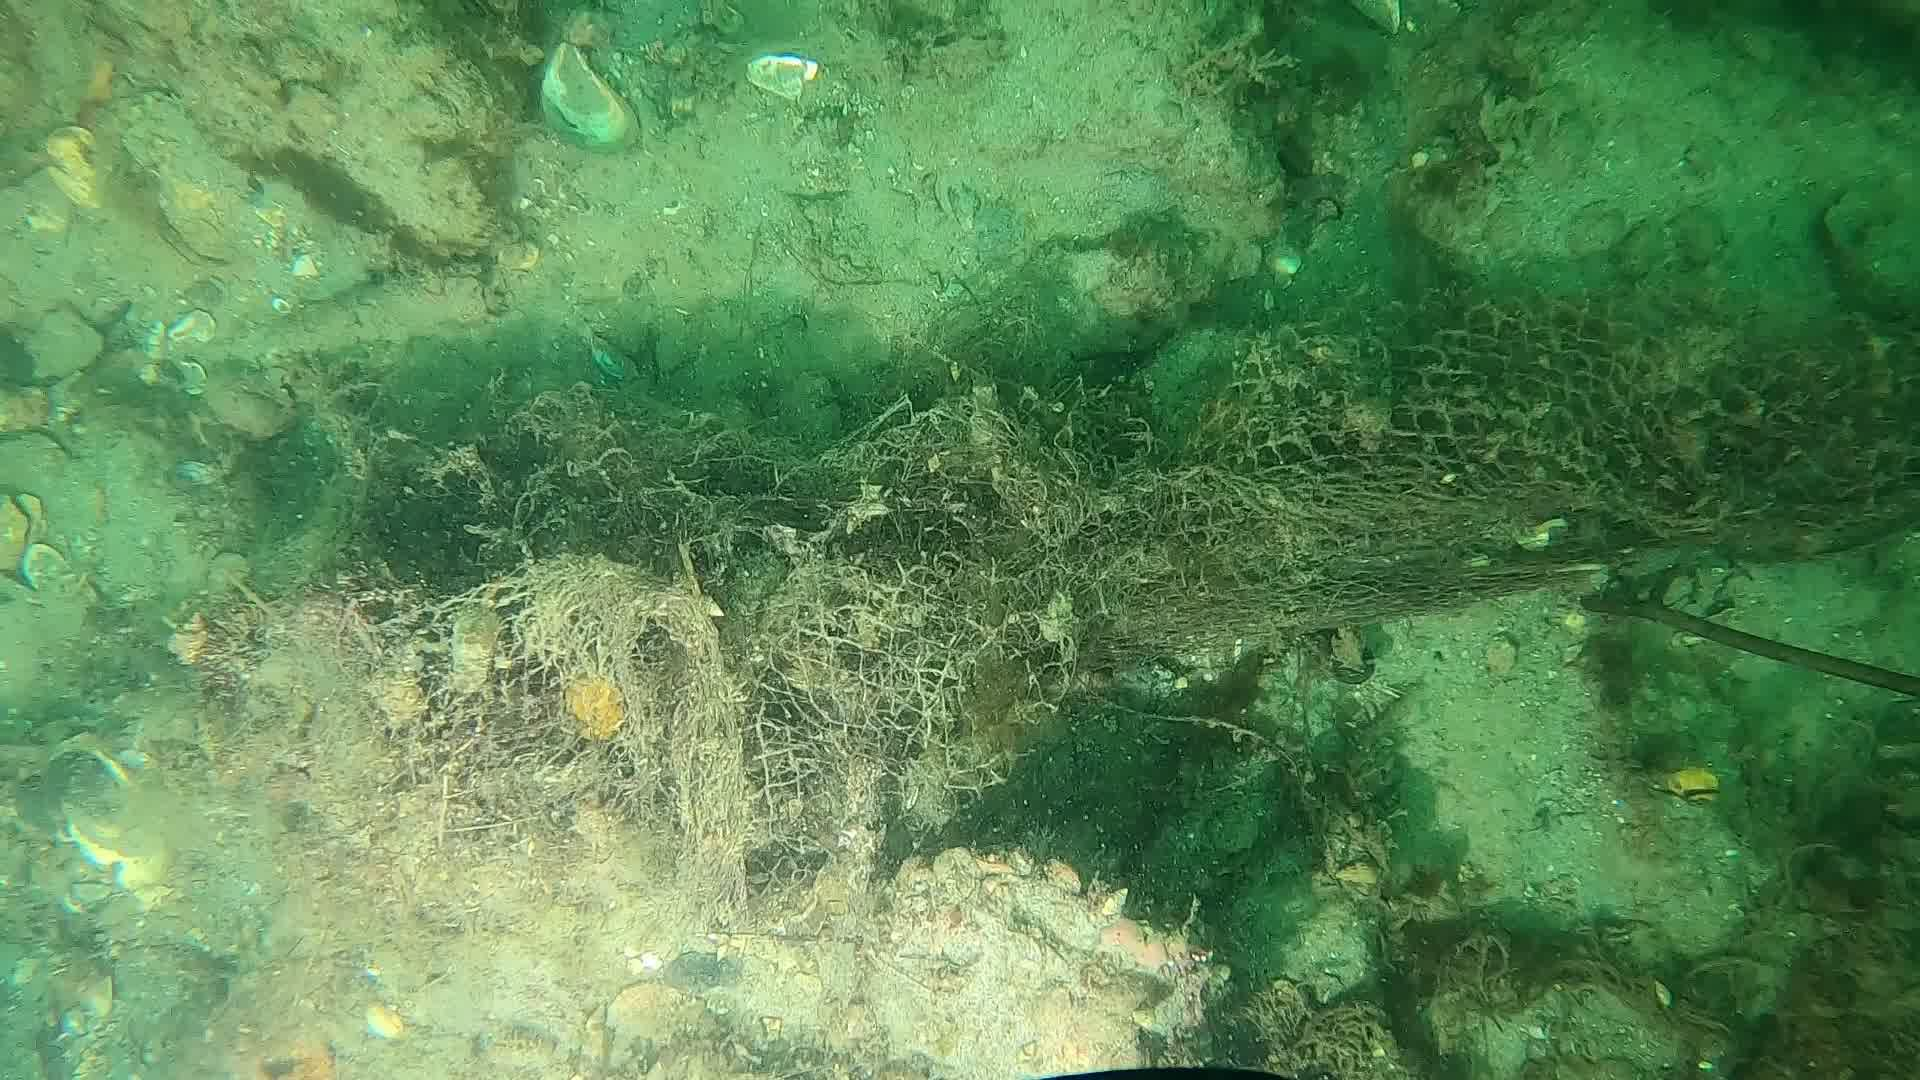fish net: (479, 295, 1920, 847)
